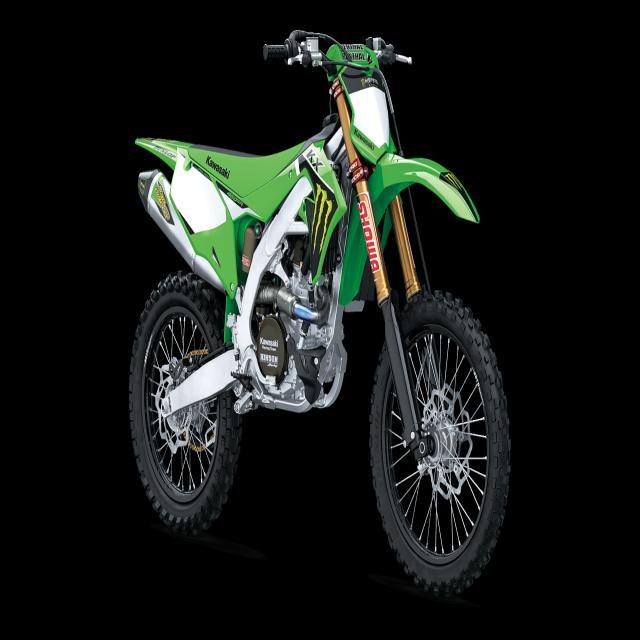Motorcycle: (130, 30, 510, 595)
